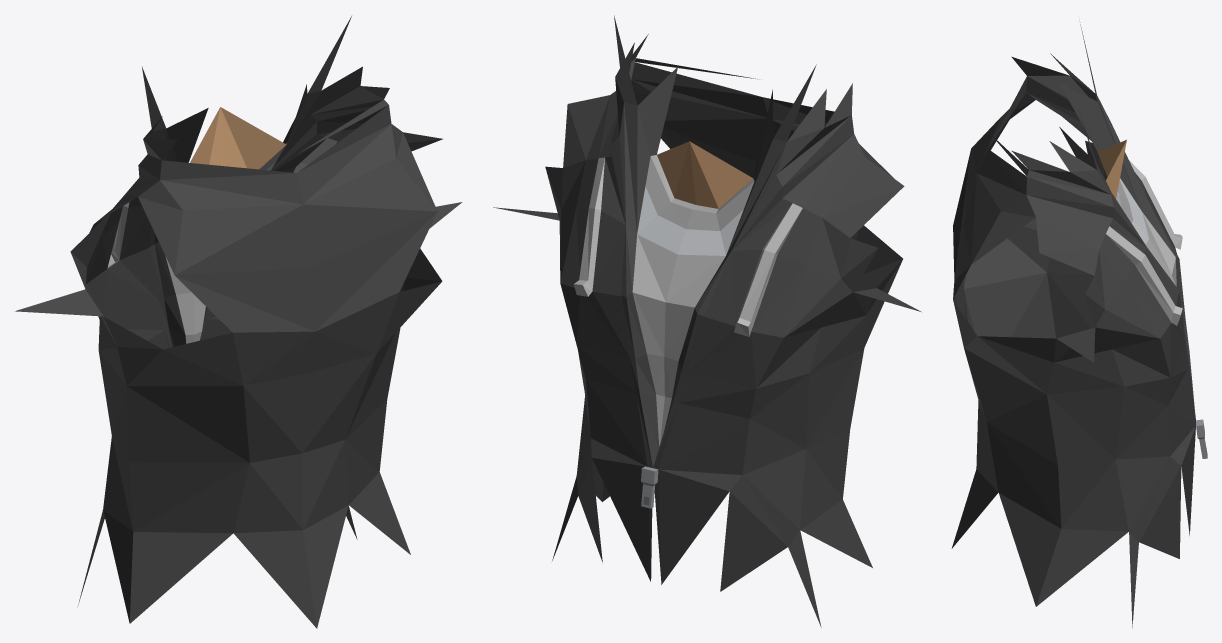
The model's file is Son_01_03_B_Torso.obj.
3 renders of one model, left to right at view 1: azimuth 30°, elevation 25°; view 2: azimuth 150°, elevation 25°; view 3: azimuth 270°, elevation 25°, orthographic. The views are drawn at different scales.
Visible parts, largest first — view 1: Son_01_03_B_Torso; view 2: Son_01_03_B_Torso; view 3: Son_01_03_B_Torso.
Part boxes in pixels (x1,y1,x2,y2): Son_01_03_B_Torso: (15,16,462,628); Son_01_03_B_Torso: (493,15,921,627); Son_01_03_B_Torso: (951,21,1207,627).
Size of the model in its own units: 0.5821 by 0.6905 by 0.3167.
Materials: 1 (1 with a texture image).
